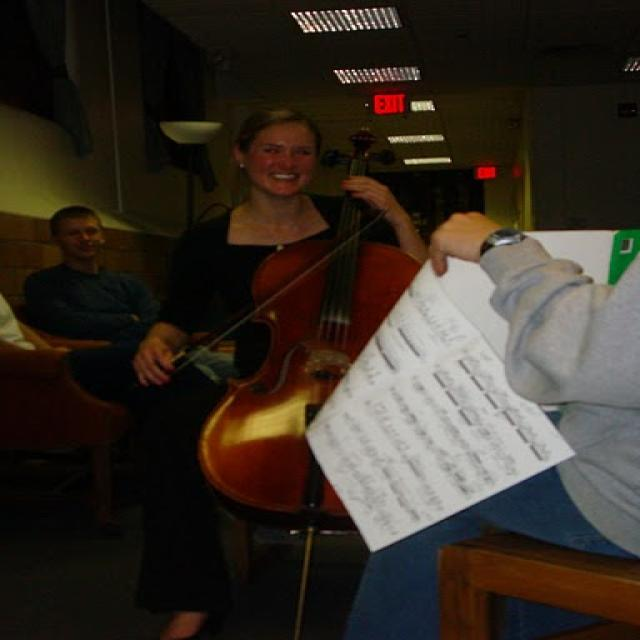cello: (195, 124, 446, 517)
